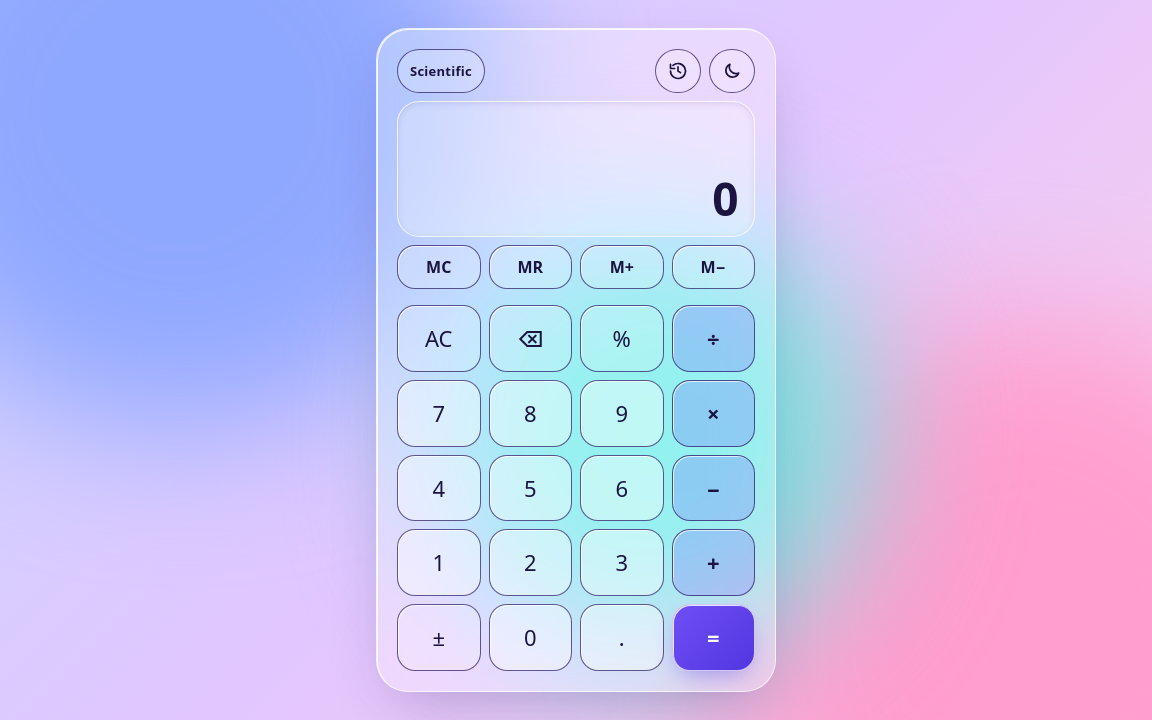
it: history (E7-S1 to E7-S4, E6-S3) › lists calculations newest first and moves focus into the panel
Type keys "2*3={Escape}10-3={Escape}"
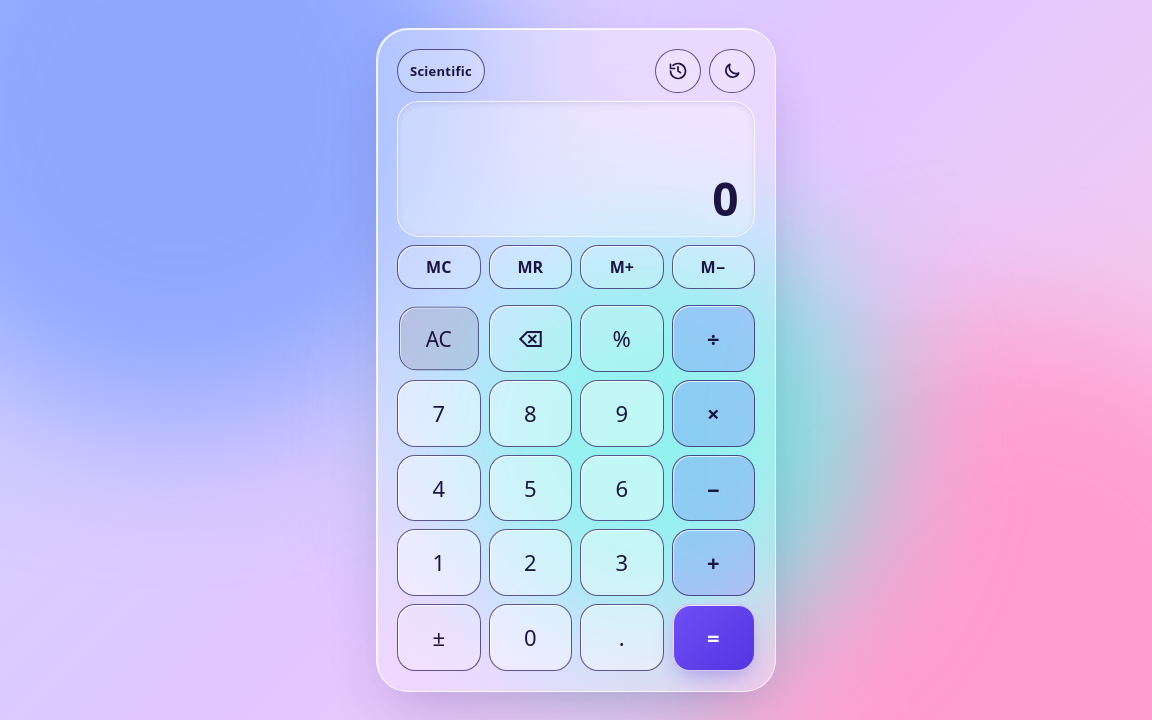
Click the button named "History" at (678, 71), box [655,49,701,93]
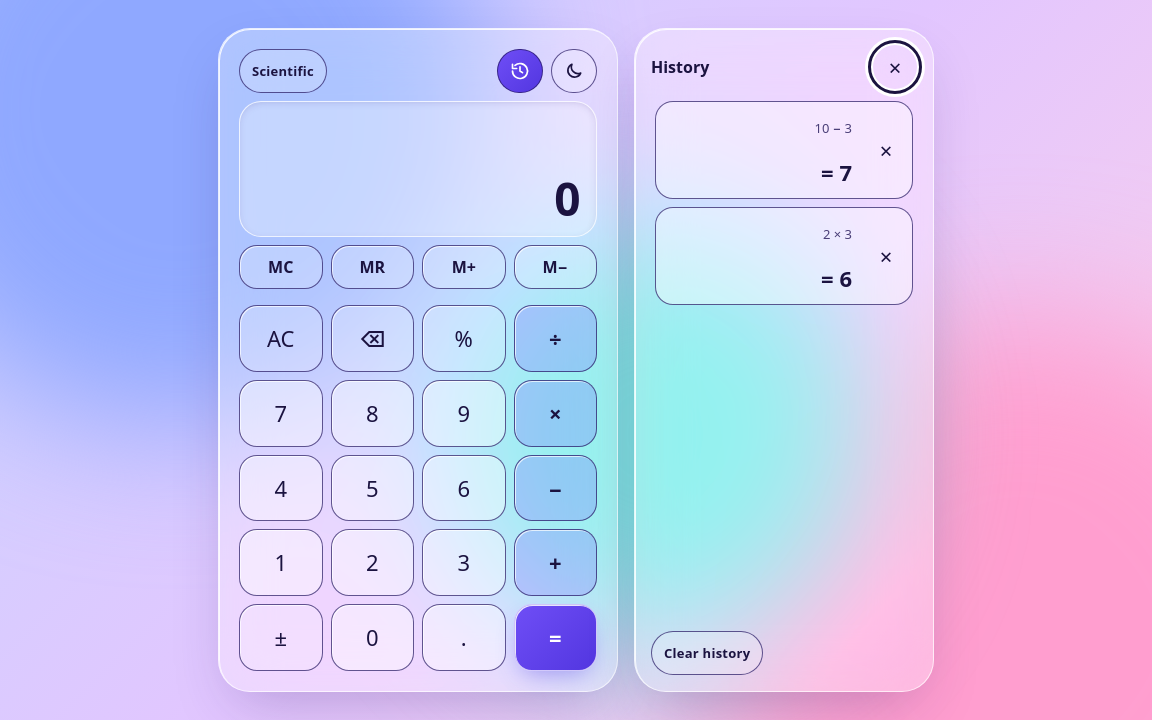
expect the number of list items is 2: met, box [655,101,913,199]; [655,207,913,305]
expect the list item "10 − 3 = 7 ×" is shown: met, box [655,101,913,199]
